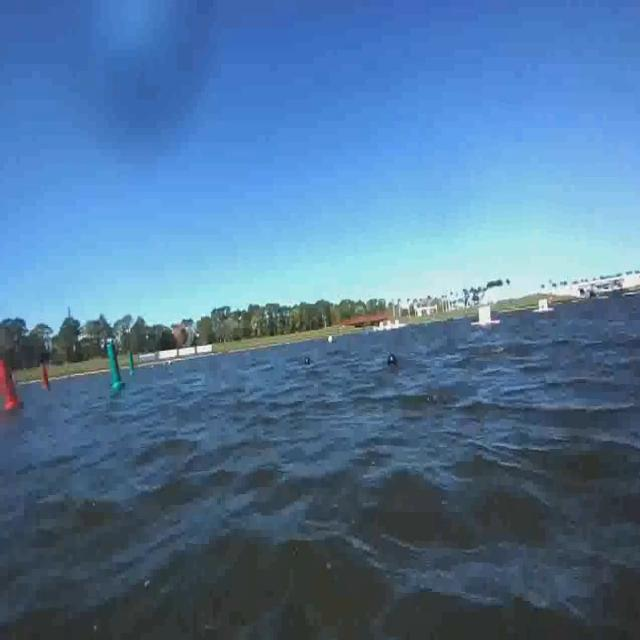green-column-buoy: (106, 340, 125, 390), (130, 353, 137, 374)
red-column-buoy: (0, 358, 24, 413), (41, 362, 50, 389)
yellow-buoy: (327, 335, 334, 346)
